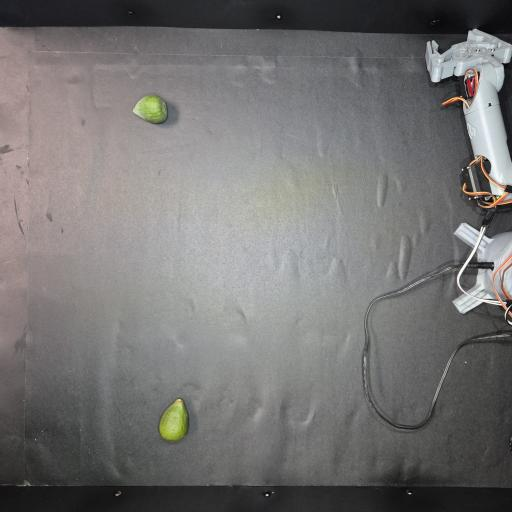higo: (159, 398, 188, 440), (133, 95, 167, 123)
